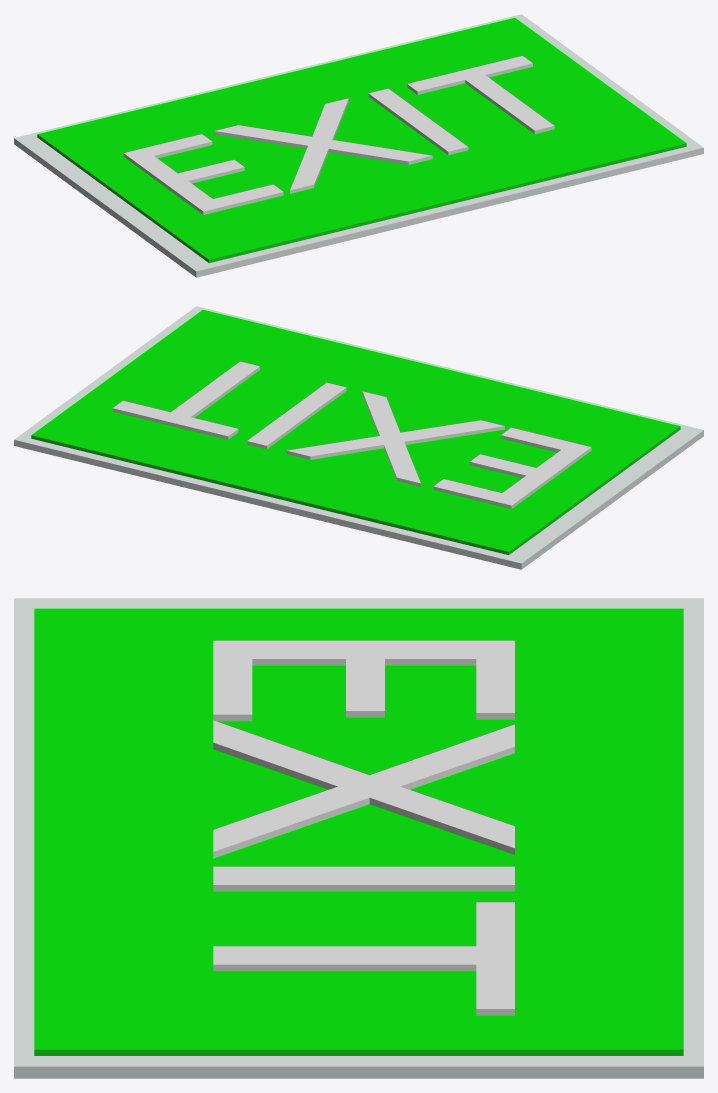
The model's file is FireExitSign.fbx.
3 views of the same model, one above another, from view 1: azimuth 30°, elevation 25°; view 2: azimuth 150°, elevation 25°; view 3: azimuth 270°, elevation 25° (orthographic). The views are drawn at different scales.
Visible parts, largest first — view 1: FireExitSignGreenPart, FireExitSignText, FireExitSign; view 2: FireExitSignGreenPart, FireExitSignText, FireExitSign; view 3: FireExitSignGreenPart, FireExitSignText, FireExitSign.
Part boxes in pixels (bbox=[...]): FireExitSignGreenPart: bbox=[37, 18, 686, 262]; FireExitSignText: bbox=[123, 56, 554, 214]; FireExitSign: bbox=[14, 14, 703, 277]; FireExitSignGreenPart: bbox=[31, 310, 680, 554]; FireExitSignText: bbox=[112, 361, 591, 508]; FireExitSign: bbox=[14, 306, 703, 569]; FireExitSignGreenPart: bbox=[34, 608, 683, 1055]; FireExitSignText: bbox=[213, 640, 514, 1015]; FireExitSign: bbox=[14, 598, 703, 1078].
Size of the model in its own units: 44.96 by 27.99 by 1.11.
